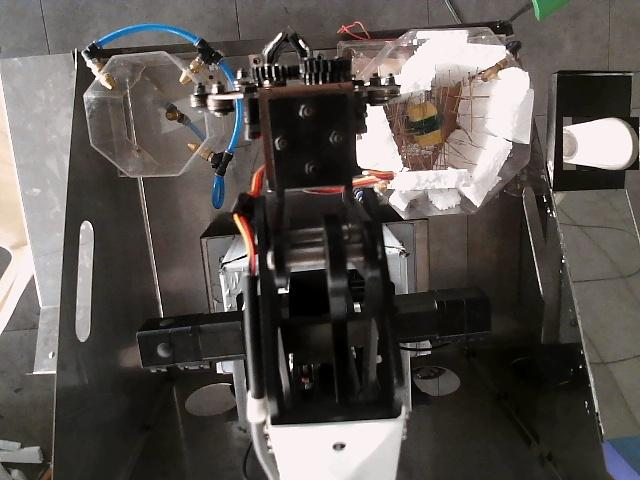cup: (563, 117, 639, 170)
